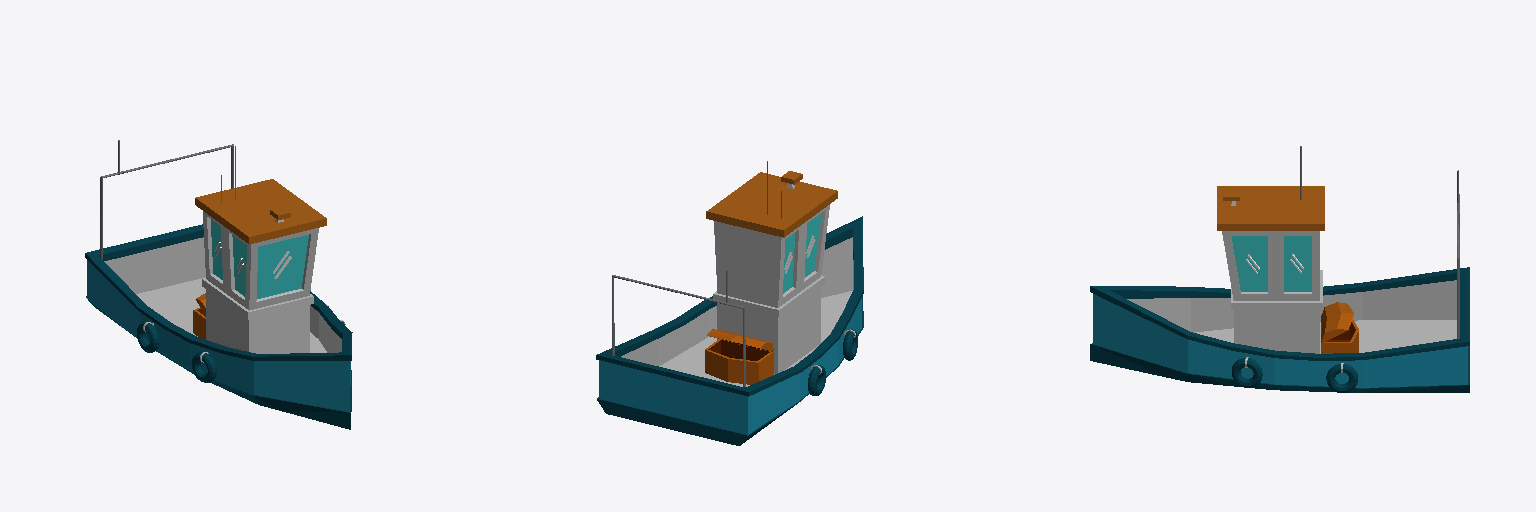
3 renders of one model, left to right at view 1: azimuth 30°, elevation 25°; view 2: azimuth 150°, elevation 25°; view 3: azimuth 270°, elevation 25°, orthographic.
Parts seen in each view (by area): view 1: Boat_LP, lifebuoys_LP, Pole_LP; view 2: Boat_LP, Chest_bottom_LP, lifebuoys_LP, Pole_LP, Chest_top_LP; view 3: Boat_LP, lifebuoys_LP, Chest_top_LP, Chest_bottom_LP.
Boxes of the visible parts, x1=… form: Boat_LP: x1=85, y1=179, x2=352, y2=429; lifebuoys_LP: x1=137, y1=320, x2=345, y2=382; Pole_LP: x1=100, y1=144, x2=233, y2=259; Boat_LP: x1=596, y1=172, x2=863, y2=445; Chest_bottom_LP: x1=705, y1=339, x2=773, y2=384; lifebuoys_LP: x1=655, y1=328, x2=857, y2=395; Pole_LP: x1=612, y1=275, x2=745, y2=386; Chest_top_LP: x1=707, y1=329, x2=773, y2=351; Boat_LP: x1=1090, y1=186, x2=1469, y2=392; lifebuoys_LP: x1=1232, y1=357, x2=1357, y2=392; Chest_top_LP: x1=1321, y1=302, x2=1353, y2=343; Chest_bottom_LP: x1=1321, y1=320, x2=1358, y2=353.
Size of the model in its own units: 23.49 by 28.18 by 46.42.
Materials: 1 (1 with a texture image).